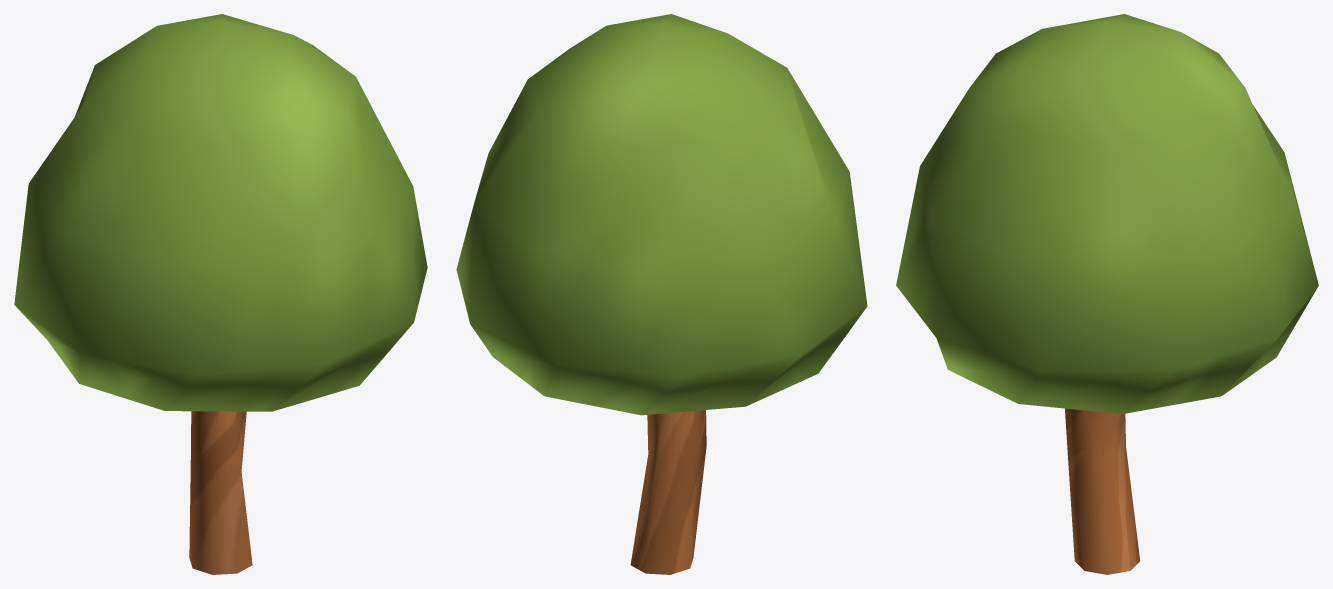
File: Arvore_1.fbx
3 renders of one model, left to right at view 1: azimuth 30°, elevation 25°; view 2: azimuth 150°, elevation 25°; view 3: azimuth 270°, elevation 25°, orthographic.
Visible parts, largest first — view 1: Arvore_1; view 2: Arvore_1; view 3: Arvore_1.
Boxes of the visible parts, <box> form: Arvore_1: <box>14,14,427,574</box>; Arvore_1: <box>456,14,867,574</box>; Arvore_1: <box>896,14,1318,574</box>.
Bounding box in the file's own units: 137 × 203 × 144.
